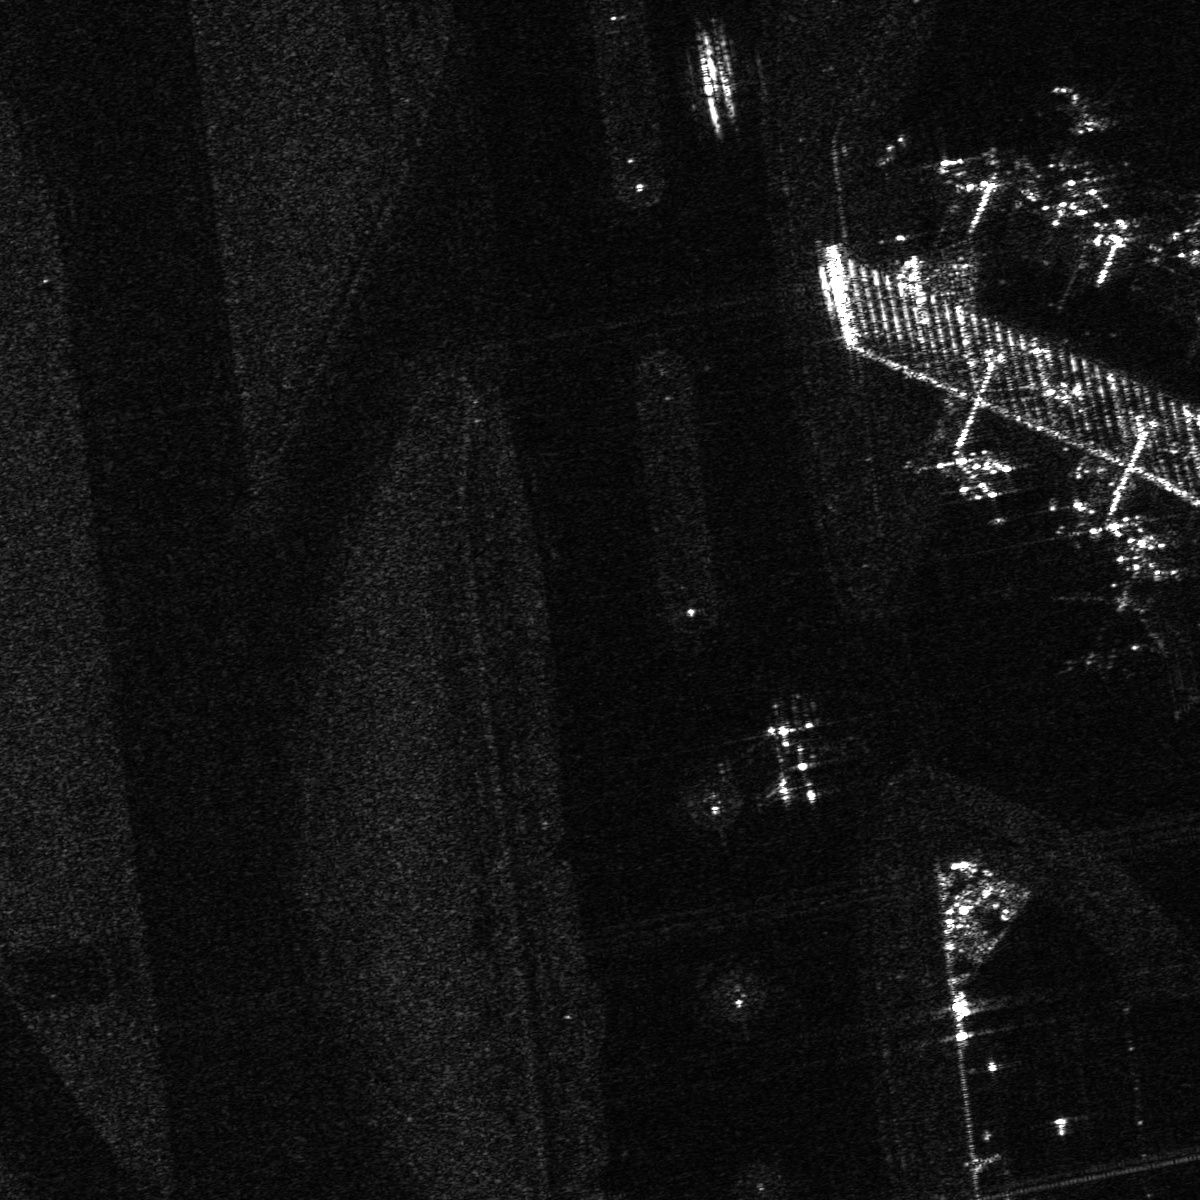Boeing787: (1038, 574, 1146, 676), (1035, 157, 1112, 235)
other: (745, 702, 842, 801)
